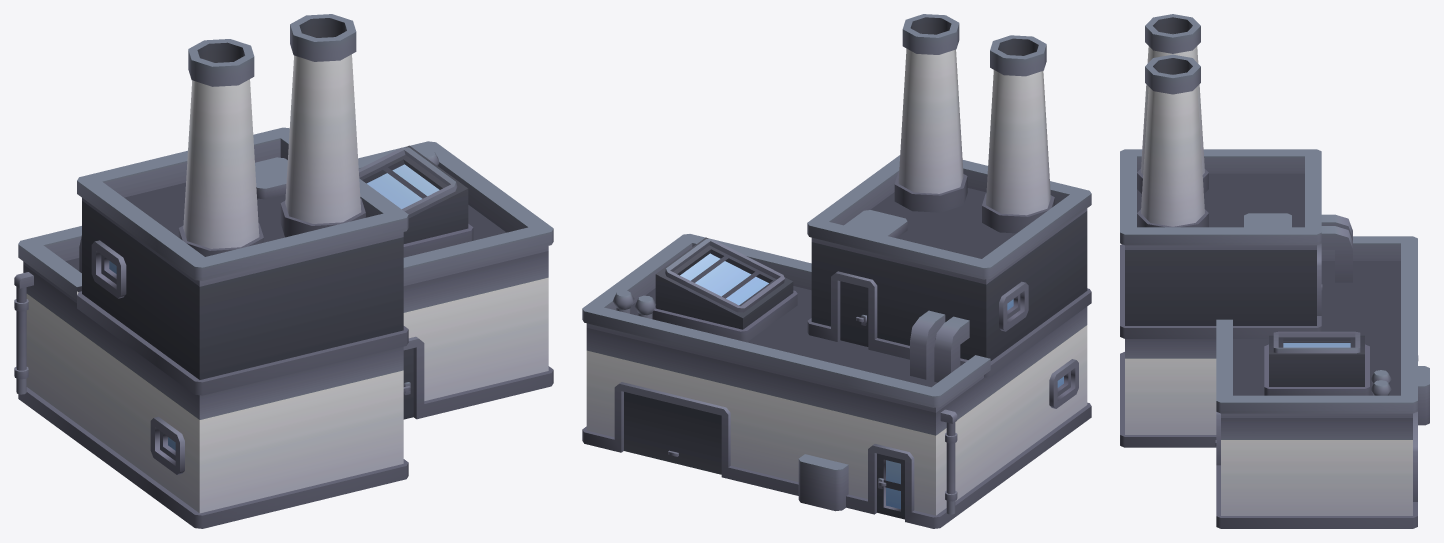
Rendered from k-city-kit-industrial-building-e.glb.
3 views of the same model, side by side, from view 1: azimuth 30°, elevation 25°; view 2: azimuth 150°, elevation 25°; view 3: azimuth 270°, elevation 25° (orthographic). The views are drawn at different scales.
Visible parts, largest first — view 1: building-e; view 2: building-e; view 3: building-e.
Boxes of the visible parts, x1,y1,x2,y2 form: building-e: (14,14,553,528); building-e: (582,14,1091,528); building-e: (1120,14,1429,528).
Size of the model in its own units: 1.68 by 1.65 by 1.29.
Materials: 1 (1 with a texture image).
